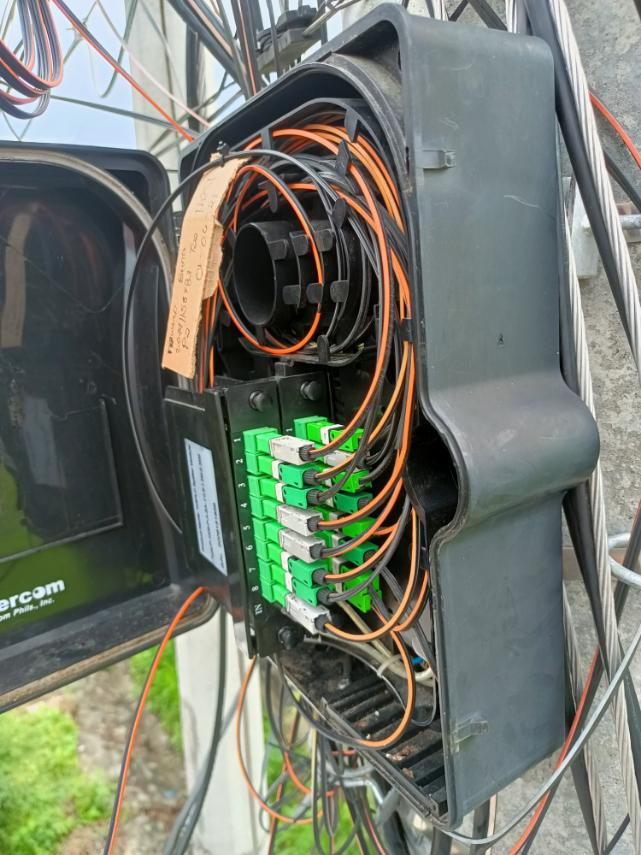occupied: (272, 584, 333, 645), (267, 542, 330, 595), (271, 564, 335, 614), (323, 552, 382, 602), (266, 521, 326, 569), (263, 499, 324, 544), (318, 569, 376, 616), (311, 504, 377, 544), (258, 454, 321, 495), (322, 531, 380, 574), (257, 427, 317, 468), (260, 477, 325, 513), (308, 460, 370, 497), (308, 416, 365, 453), (310, 441, 371, 475), (315, 482, 370, 519)
